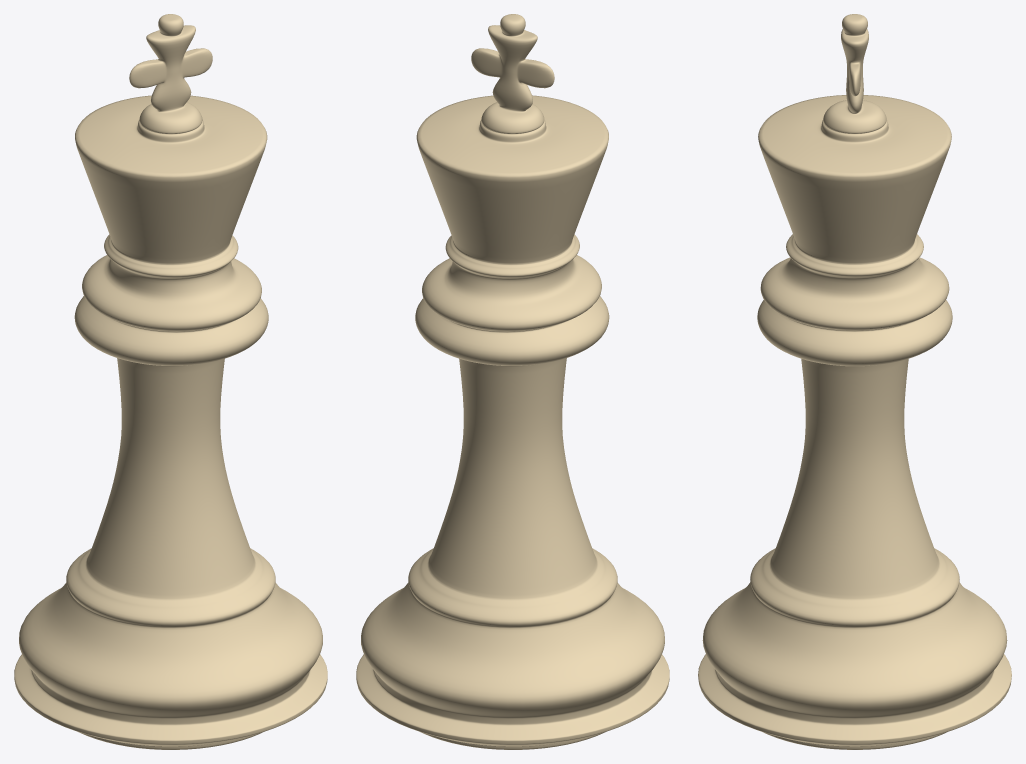
File: gercektam_k_w.glb
3 renders of one model, left to right at view 1: azimuth 30°, elevation 25°; view 2: azimuth 150°, elevation 25°; view 3: azimuth 270°, elevation 25°, orthographic.
Parts seen in each view (by area): view 1: Sphere.005; view 2: Sphere.005; view 3: Sphere.005.
Boxes of the visible parts, box(x1,y1,x2,y2) form: Sphere.005: box(14, 14, 327, 749); Sphere.005: box(356, 14, 669, 749); Sphere.005: box(698, 14, 1011, 749).
Bounding box in the file's own units: 1.31 × 3.14 × 1.31.
